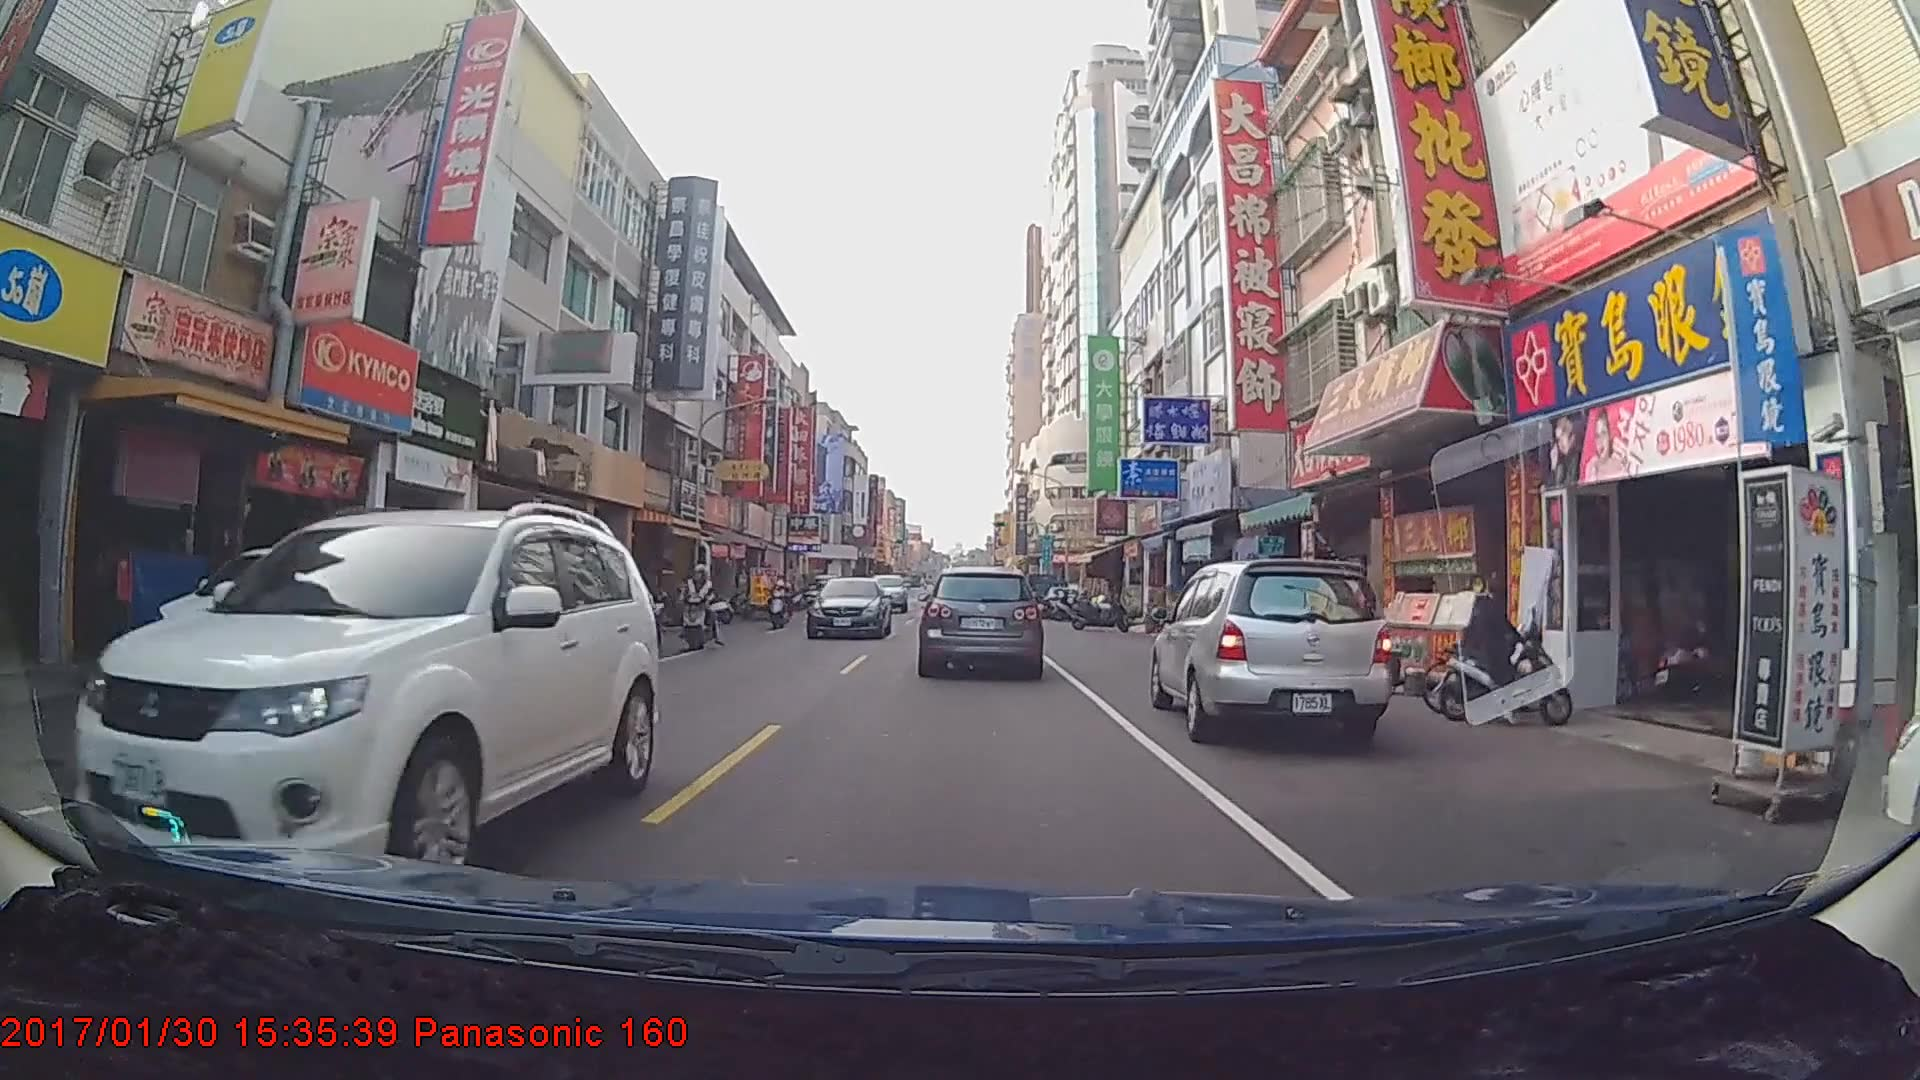rider: (1436, 574, 1585, 738), (671, 560, 729, 650), (762, 575, 792, 627)
vehicle: (63, 503, 658, 904), (1148, 560, 1390, 745), (920, 565, 1040, 675), (805, 577, 893, 640), (861, 572, 907, 612)
